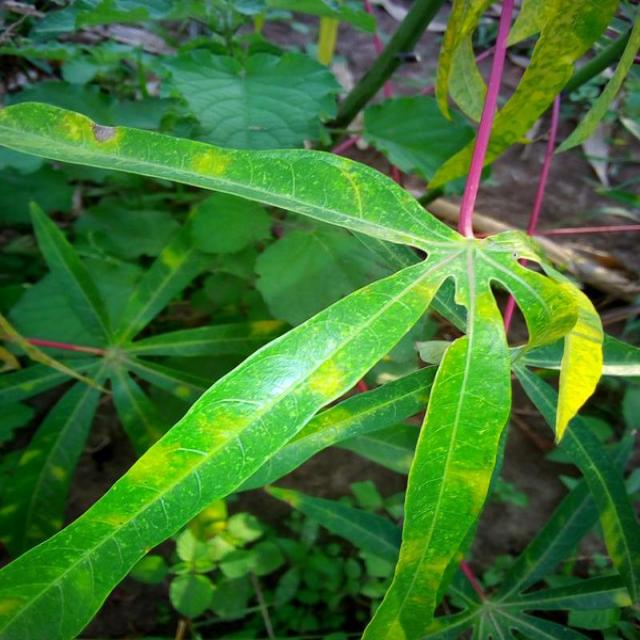cassava leaf: (1, 92, 611, 638)
